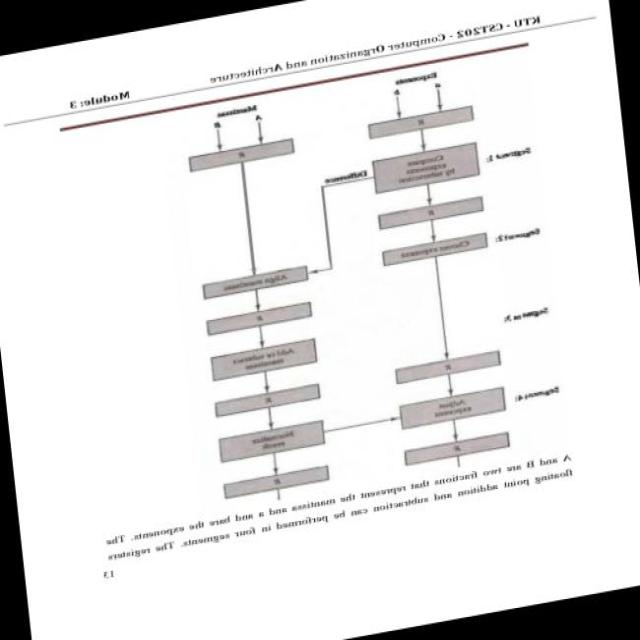Figure Detection - v3 Dataset Version2: (137, 42, 594, 521)
